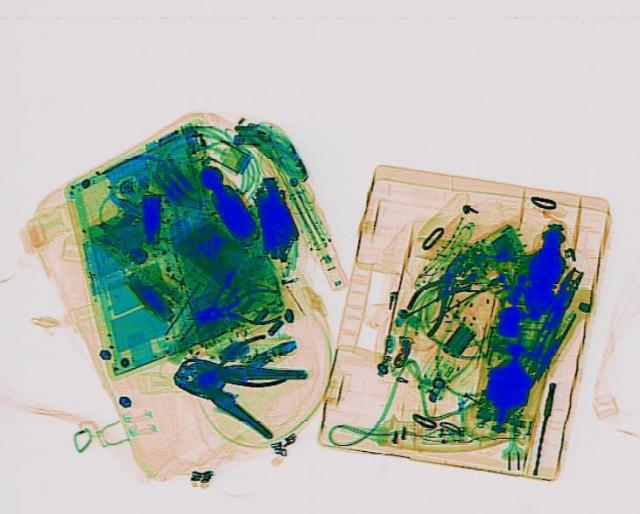Pliers: (154, 336, 310, 439), (392, 246, 483, 336), (184, 331, 290, 400), (179, 283, 285, 332)
